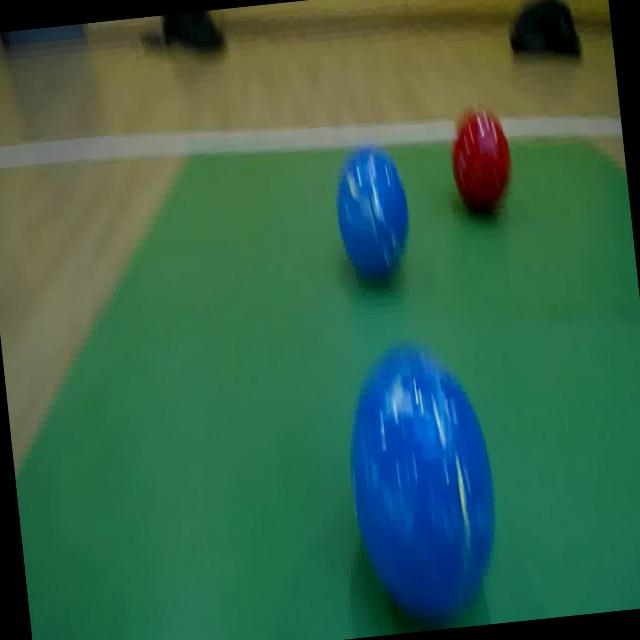blue_ball: (332, 338, 512, 630), (328, 136, 416, 298)
red_ball: (444, 108, 518, 224)
